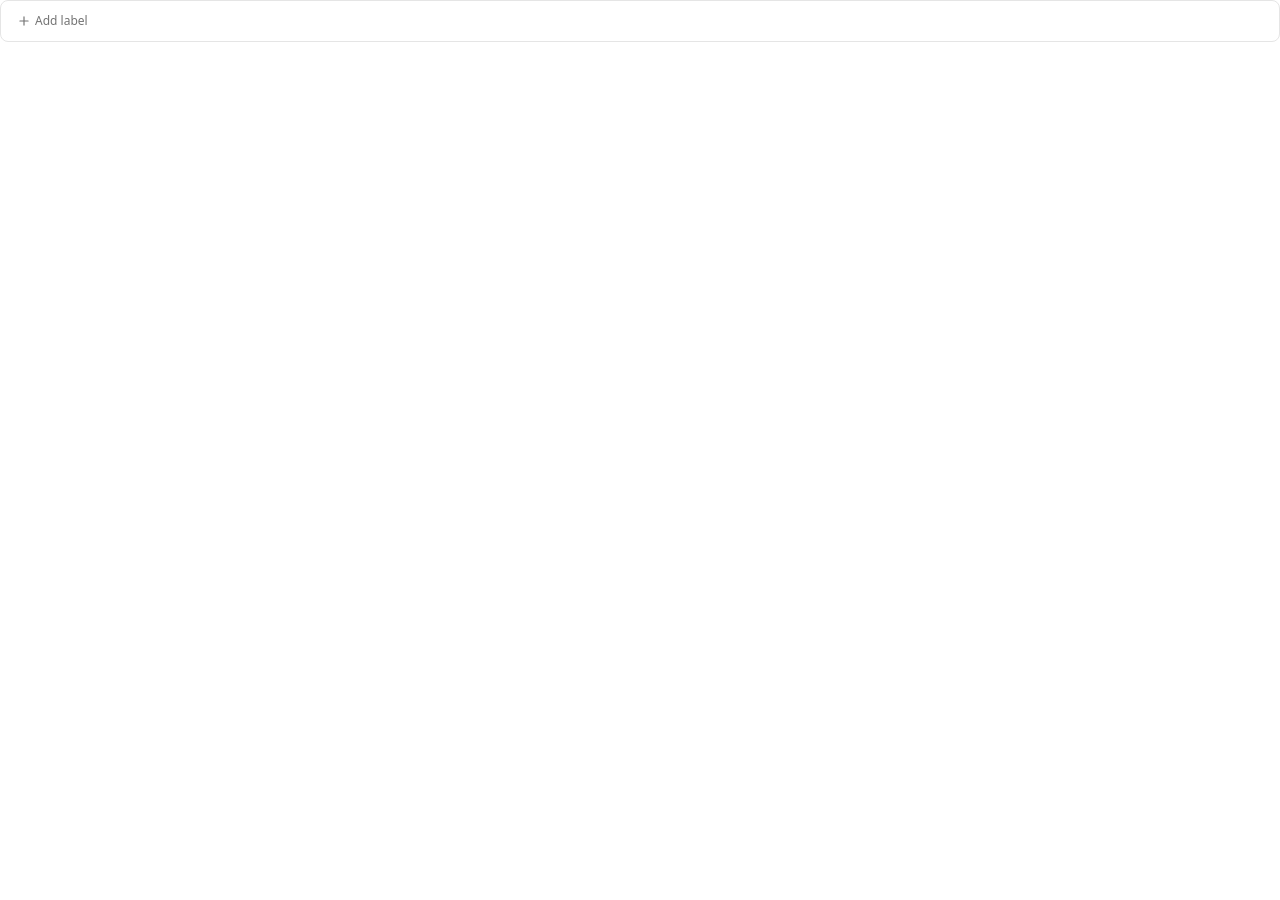
Test case: LabelContent › Rendering Modes › renders in inline mode by default
This screenshot has width=1280, height=900.
Click the button "Add label".
click(52, 21)  # box [9,7,96,35]
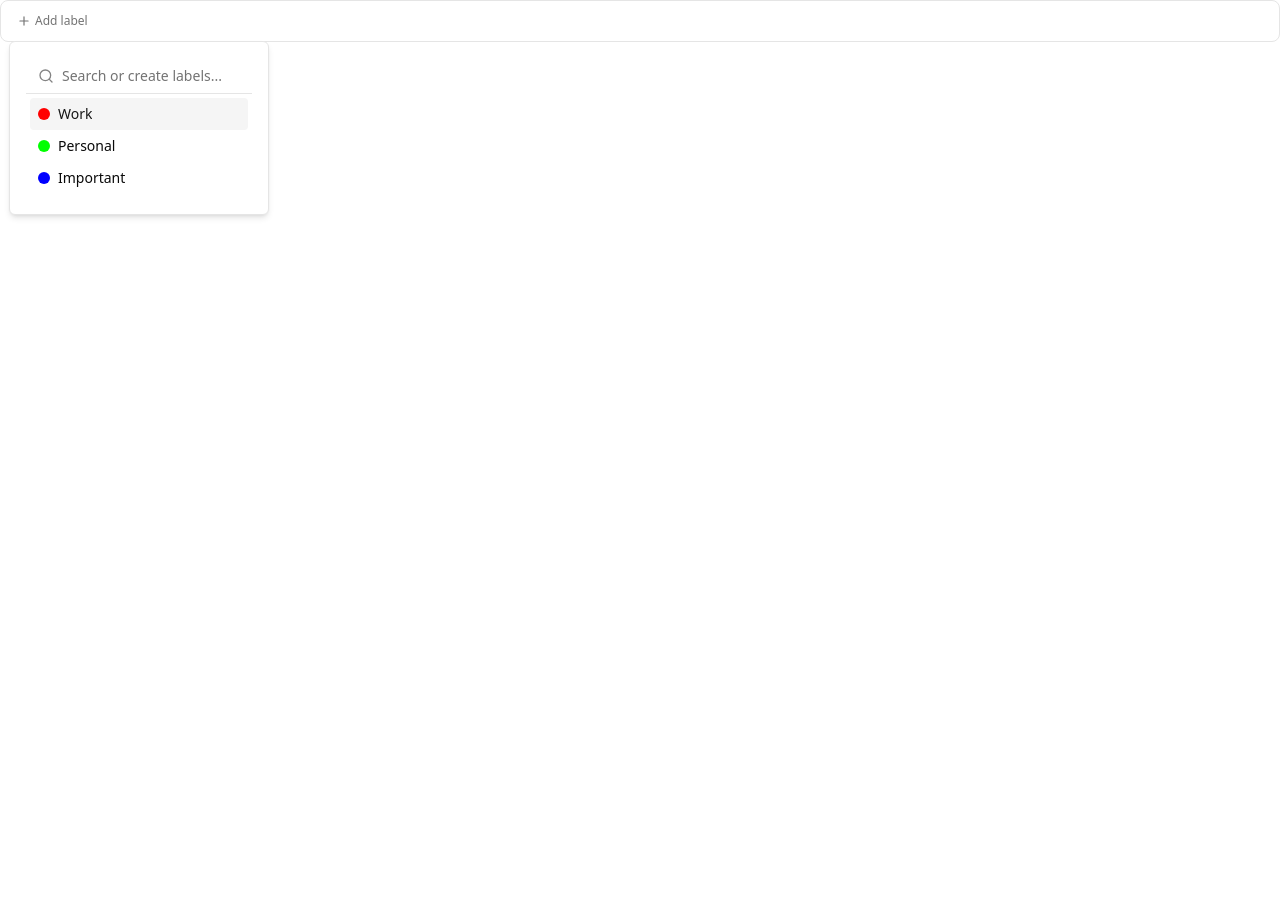
Now the dropdown with placeholder "Search or create labels..." is shown, box [62,58,240,96]
